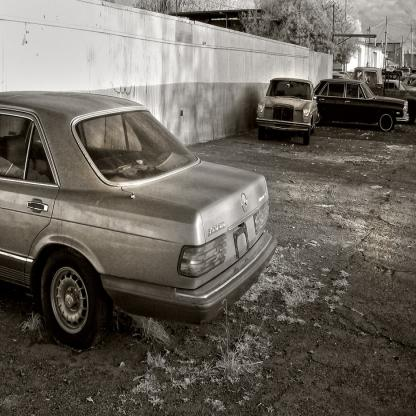Car: (0, 90, 278, 351), (314, 77, 409, 134), (256, 77, 317, 144), (382, 79, 408, 91)
